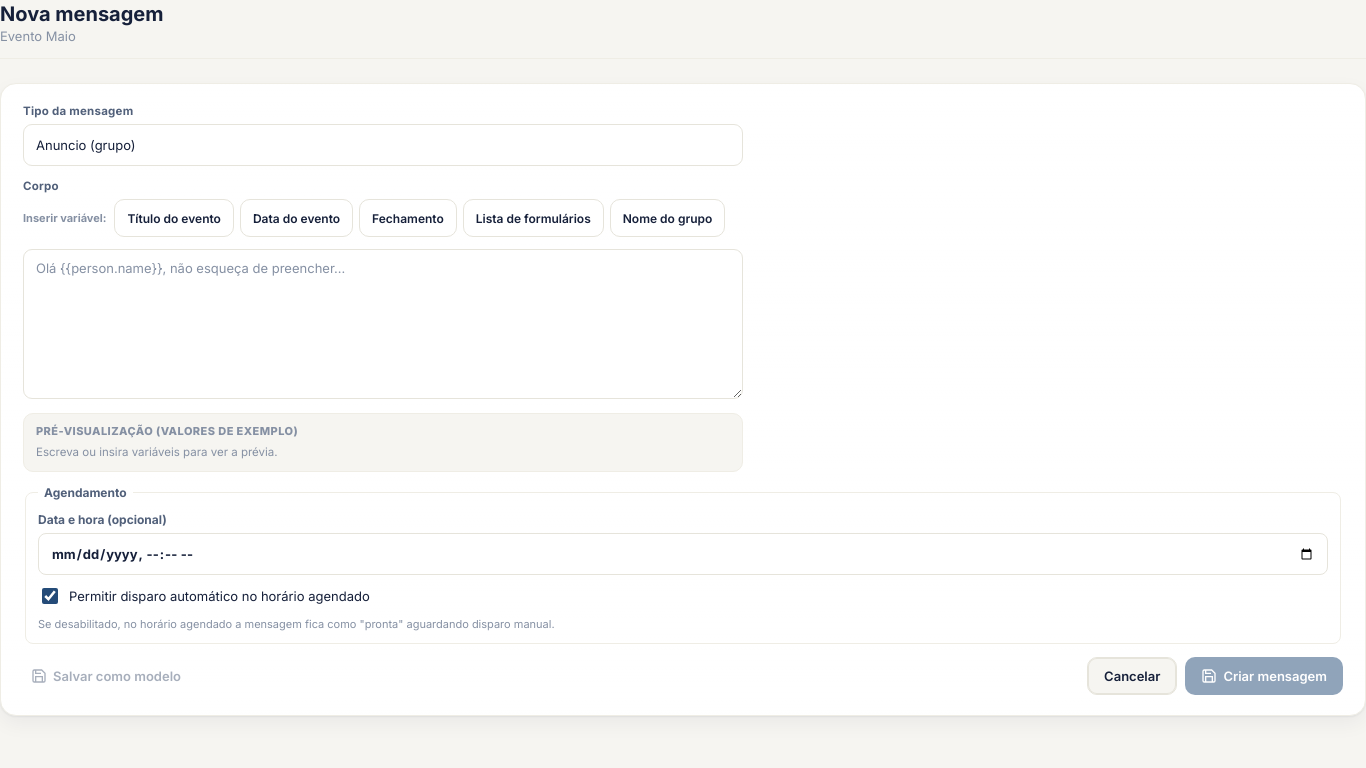
Test: EventMessageEditorScreen › avisa quando tipo DM nao tem coluna de telefone configurada
Select "Lembrete de presença" in the dropdown labelled "Tipo da mensagem" at (383, 145), box top-left (23, 124), bottom-right (743, 166)
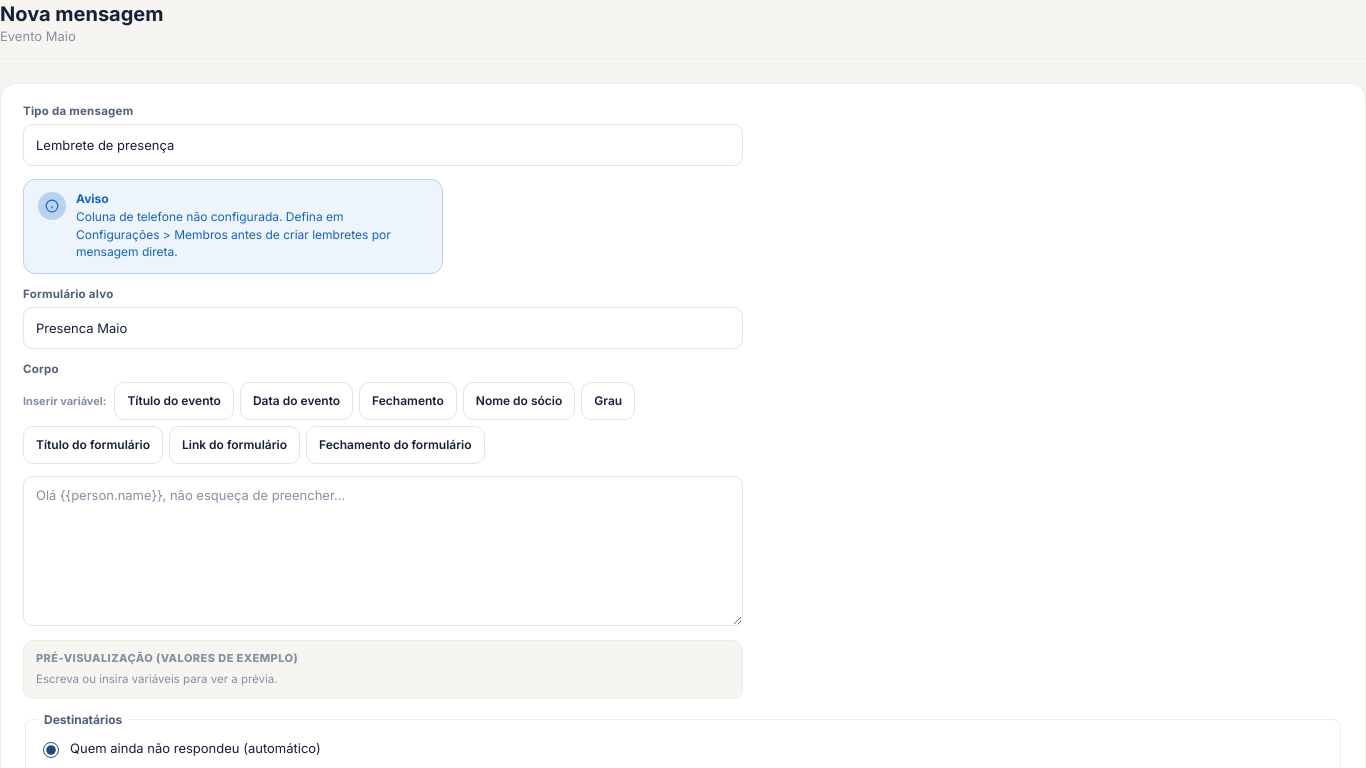
Expected: the text "Coluna de telefone não configurada" is shown, top-left (76, 209), bottom-right (391, 259)
